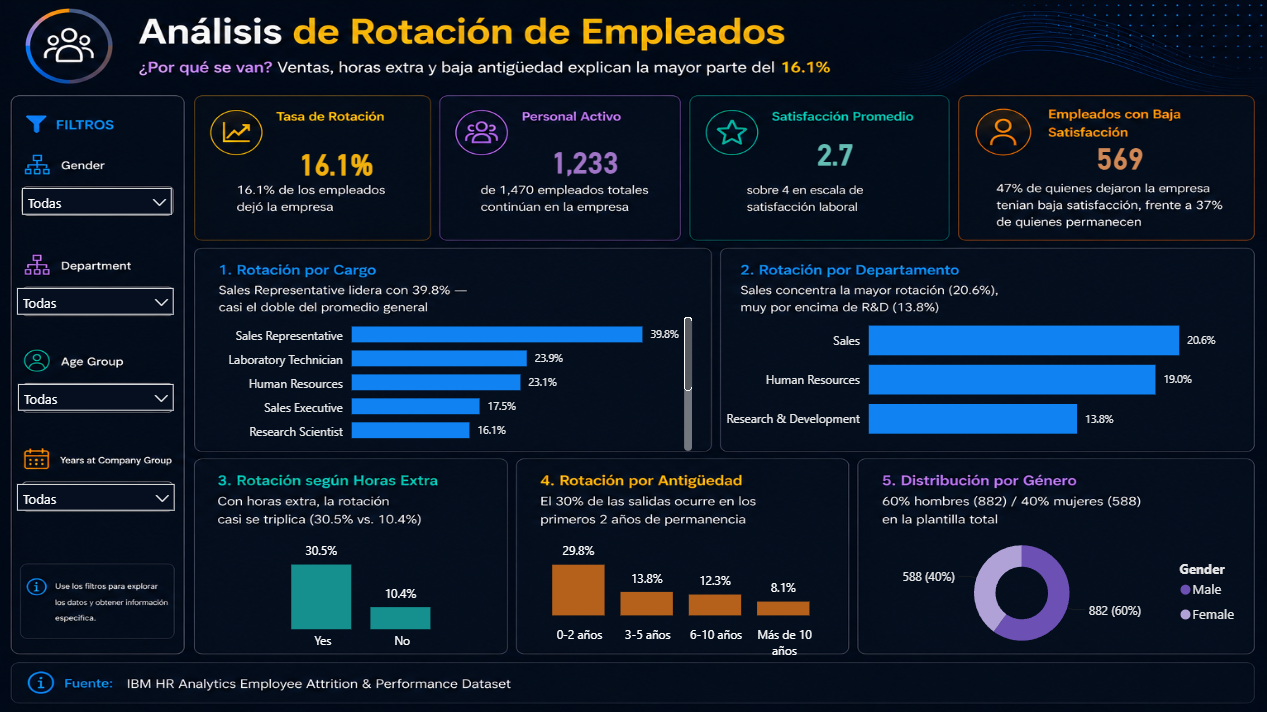

Layout of this report page (visuals, bound fields, positions):
{"tool":"powerbi","page":{"name":"HR ANALYTICS","canvas":[1280,720],"ordinal":0},"visuals":[{"type":"card","fields":{"Values":["Medidas.Empleados con Baja Satisfacción"]},"box":[999.8,119.9,261,78.6],"z":0},{"type":"card","fields":{"Values":["Medidas.Satisfacción Promedio"]},"box":[755.9,113.9,175.4,83.7],"z":1},{"type":"card","fields":{"Values":["Medidas.Tasa Rotación (%)"]},"box":[254,128,173.4,75.6],"z":2},{"type":"card","fields":{"Values":["Medidas.Headcount Activo"]},"box":[495.9,119.9,191.5,86.7],"z":3},{"type":"barChart","fields":{"Category":["hr_employees.Department"],"Y":["Medidas.Tasa Rotación"]},"box":[719.6,300.3,542.2,160.3],"z":4},{"type":"clusteredBarChart","fields":{"Category":["hr_employees.JobRole"],"Y":["Medidas.Tasa Rotación"]},"box":[192.5,307.4,512,153.2],"z":5},{"type":"clusteredColumnChart","fields":{"Category":["hr_employees.OverTime"],"Y":["Medidas.Tasa Rotación"]},"box":[218.7,532.2,297.3,133],"z":6},{"type":"clusteredColumnChart","fields":{"Category":["hr_employees.Years at Company Group"],"Y":["Medidas.Tasa Rotación"]},"box":[516,532.2,336.6,140.1],"z":7},{"type":"donutChart","fields":{"Category":["hr_employees.Gender"],"Y":["Count(hr_employees.EmployeeNumber)"]},"box":[867.8,532.2,394.1,133],"z":8},{"type":"slicer","fields":{"Values":["hr_employees.Department"]},"box":[9.1,281.2,178.4,54.4],"z":9},{"type":"slicer","fields":{"Values":["hr_employees.Gender"]},"box":[14.1,180.4,171.3,50.4],"z":10},{"type":"slicer","fields":{"Values":["hr_employees.Age Group"]},"box":[10.1,378,177.4,49.4],"z":11},{"type":"slicer","fields":{"Values":["hr_employees.Years at Company Group"]},"box":[9.1,478.7,179.4,68.5],"z":12}]}

Visuals, with their boxes in screenshot pixels (x1, y1, x2, y2), scaled from the page's 1280x720 canvas onto the 1267x712 screenshot:
card - Medidas.Empleados con Baja Satisfacción: x1=990, y1=119, x2=1248, y2=196
card - Medidas.Satisfacción Promedio: x1=748, y1=113, x2=922, y2=195
card - Medidas.Tasa Rotación (%): x1=251, y1=127, x2=423, y2=201
card - Medidas.Headcount Activo: x1=491, y1=119, x2=680, y2=204
barChart - hr_employees.Department x Medidas.Tasa Rotación: x1=712, y1=297, x2=1249, y2=455
clusteredBarChart - hr_employees.JobRole x Medidas.Tasa Rotación: x1=191, y1=304, x2=697, y2=455
clusteredColumnChart - hr_employees.OverTime x Medidas.Tasa Rotación: x1=216, y1=526, x2=511, y2=658
clusteredColumnChart - hr_employees.Years at Company Group x Medidas.Tasa Rotación: x1=511, y1=526, x2=844, y2=665
donutChart - hr_employees.Gender x Count(hr_employees.EmployeeNumber): x1=859, y1=526, x2=1249, y2=658
slicer - hr_employees.Department: x1=9, y1=278, x2=186, y2=332
slicer - hr_employees.Gender: x1=14, y1=178, x2=184, y2=228
slicer - hr_employees.Age Group: x1=10, y1=374, x2=186, y2=423
slicer - hr_employees.Years at Company Group: x1=9, y1=473, x2=187, y2=541
